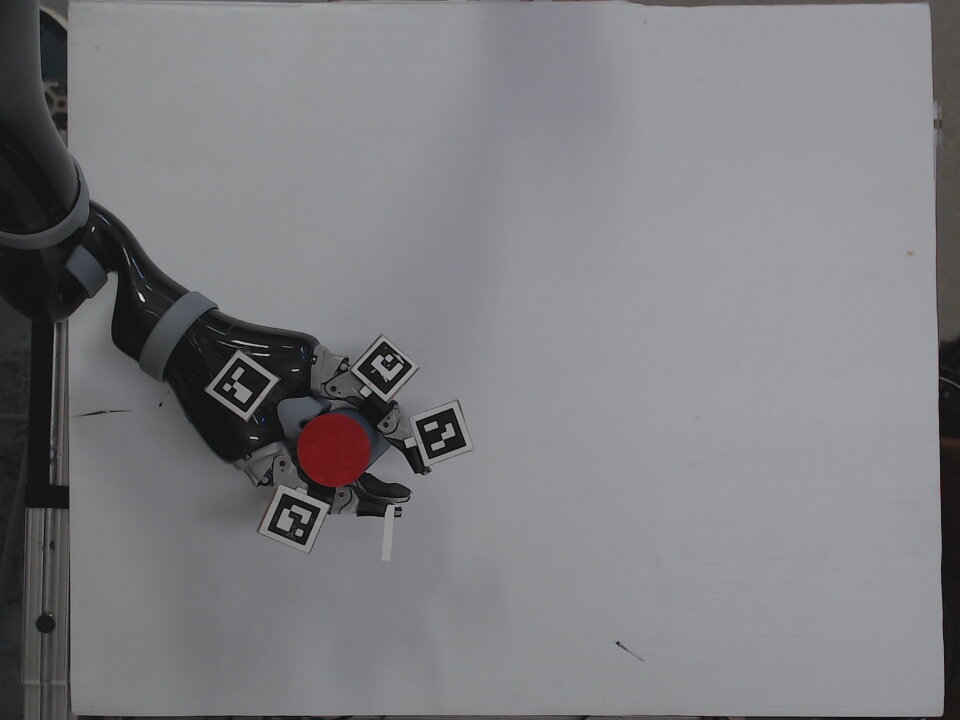cylinder: (293, 406, 393, 491)
